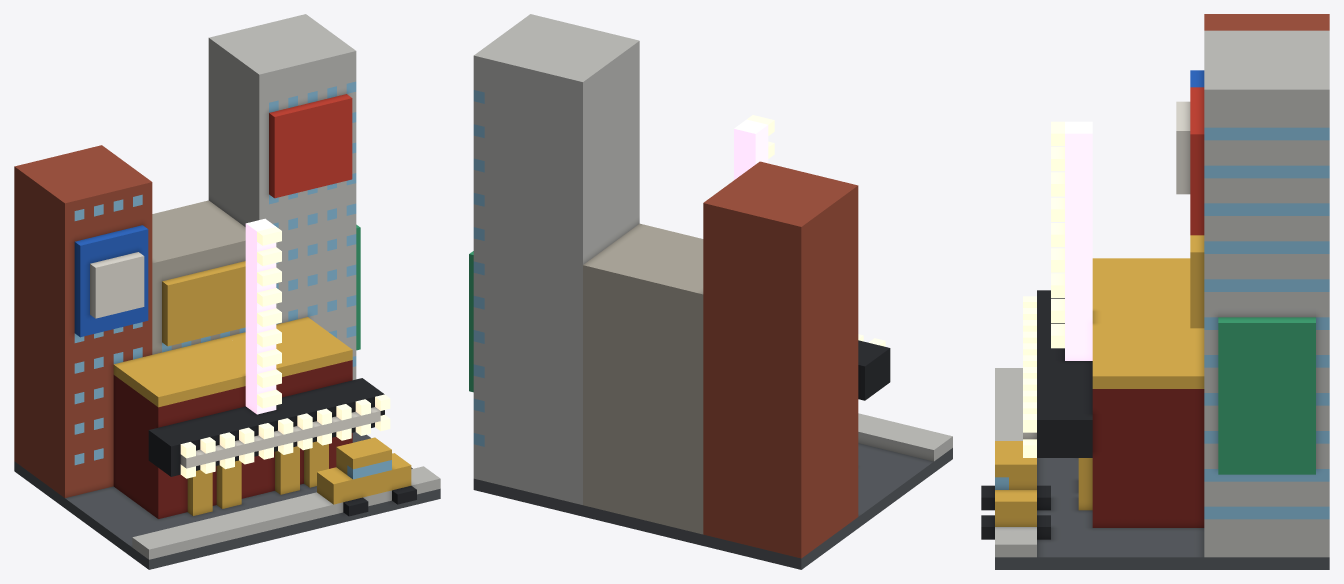
File: w_broadway.glb
The picture shows the model from 3 angles, left to right: view 1: azimuth 30°, elevation 25°; view 2: azimuth 150°, elevation 25°; view 3: azimuth 270°, elevation 25°; orthographic projection. The views are drawn at different scales.
Visible parts, largest first — view 1: w_broadway_body; view 2: w_broadway_body; view 3: w_broadway_body.
Part boxes in pixels (x1,y1,x2,y2): w_broadway_body: (14,14,440,569); w_broadway_body: (469,14,952,569); w_broadway_body: (981,14,1329,569).
Bounding box in the file's own units: 1.94 × 2.38 × 1.56.
1 material, 1 textured.
